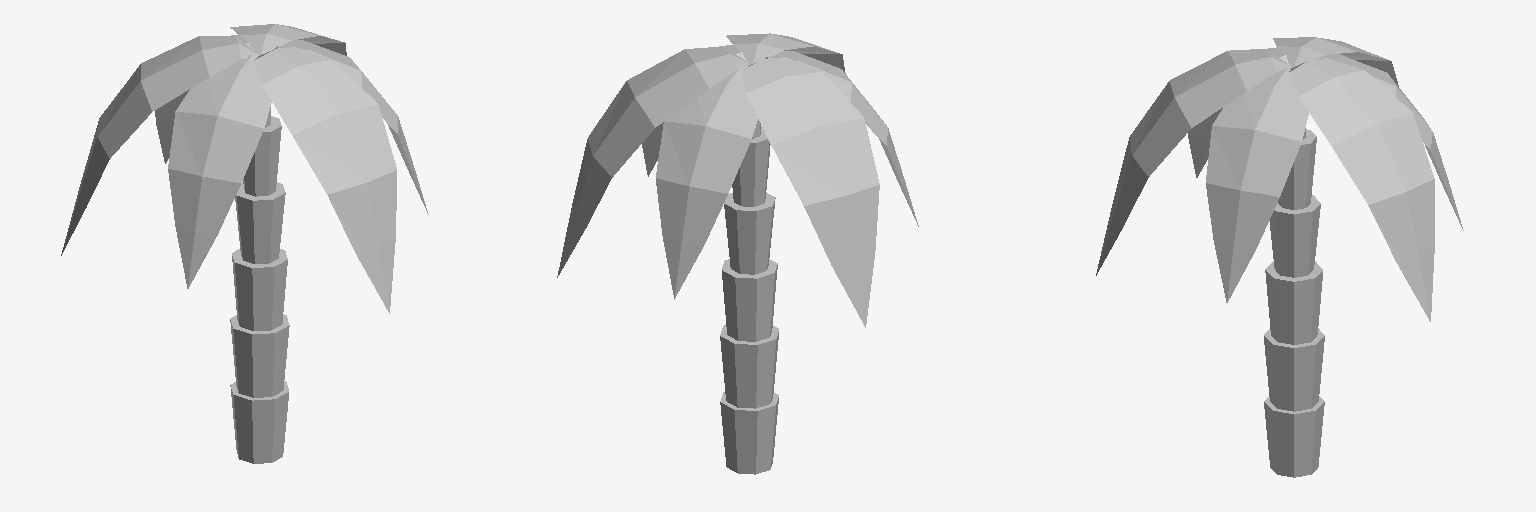
Rendered from Palmera_final.obj.
3 renders of one model, left to right at view 1: azimuth 30°, elevation 25°; view 2: azimuth 150°, elevation 25°; view 3: azimuth 270°, elevation 25°, orthographic.
Parts seen in each view (by area): view 1: palmera_Sphere.006; view 2: palmera_Sphere.006; view 3: palmera_Sphere.006.
Boxes of the visible parts, <box> form: palmera_Sphere.006: <box>61,24,428,463</box>; palmera_Sphere.006: <box>557,33,918,474</box>; palmera_Sphere.006: <box>1096,37,1463,477</box>.
Bounding box in the file's own units: 9.28 × 12.47 × 10.11.